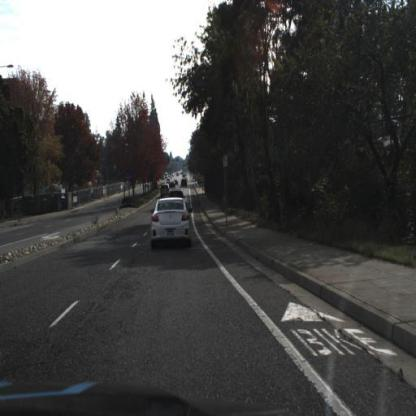car: (148, 197, 194, 248), (168, 188, 187, 204), (159, 184, 173, 202), (181, 178, 190, 191)
